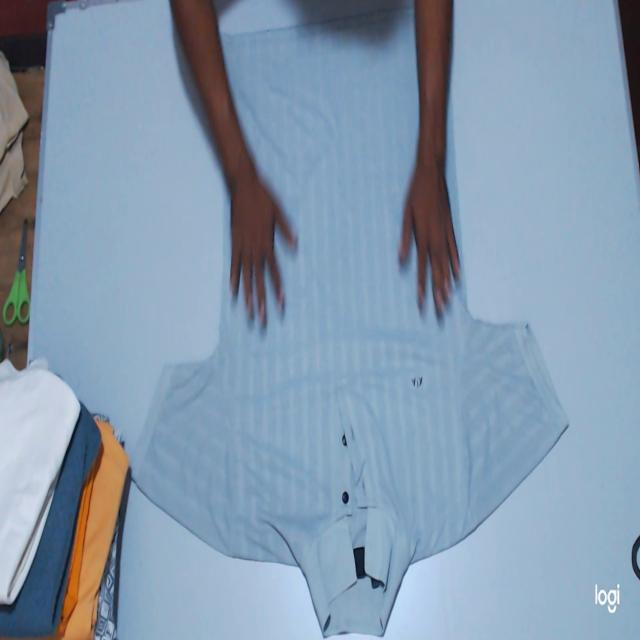new-garment: (132, 9, 567, 635)
